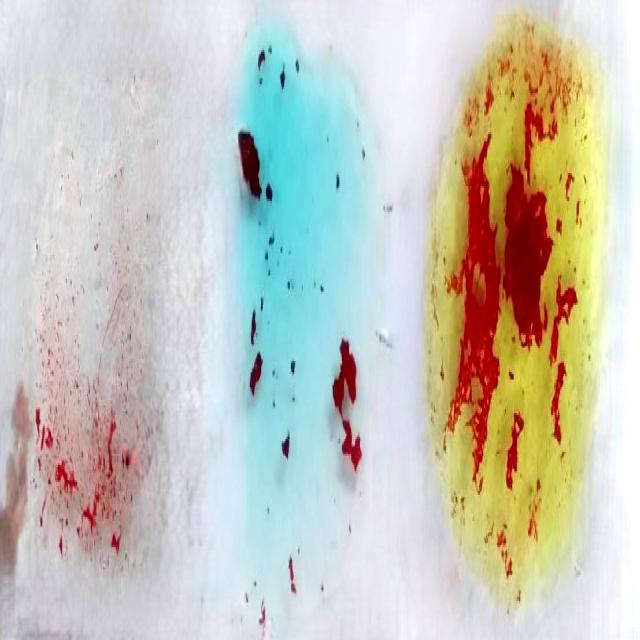A: (237, 40, 366, 627)
B: (432, 73, 596, 611)
D: (29, 87, 141, 603)
